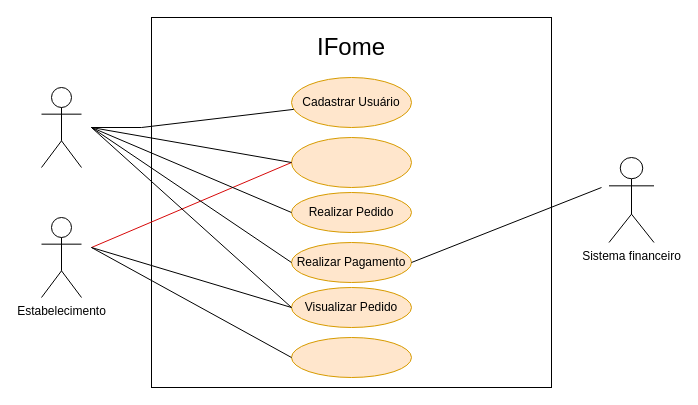
Some shapes in this 698 by 405 pixel diagram are drawn without their labels. Here are the shapes that lost their labels. From the top down, the centre of each, then its label:
the point at 61,127: Cliente
the point at 351,162: Autenticar Usuário
the point at 351,357: Enviar Pedido
